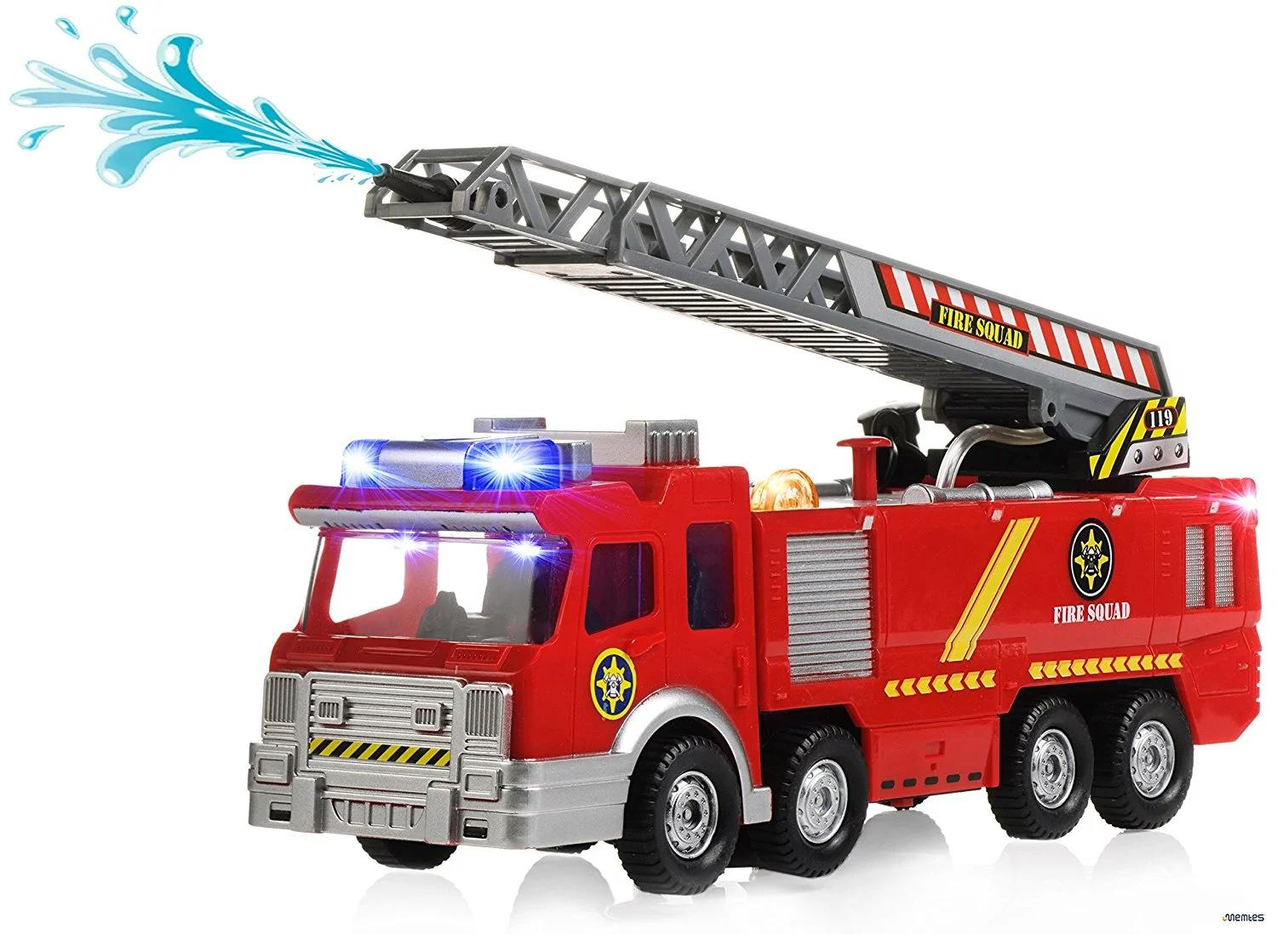Fire-engine: (245, 144, 1263, 896)
